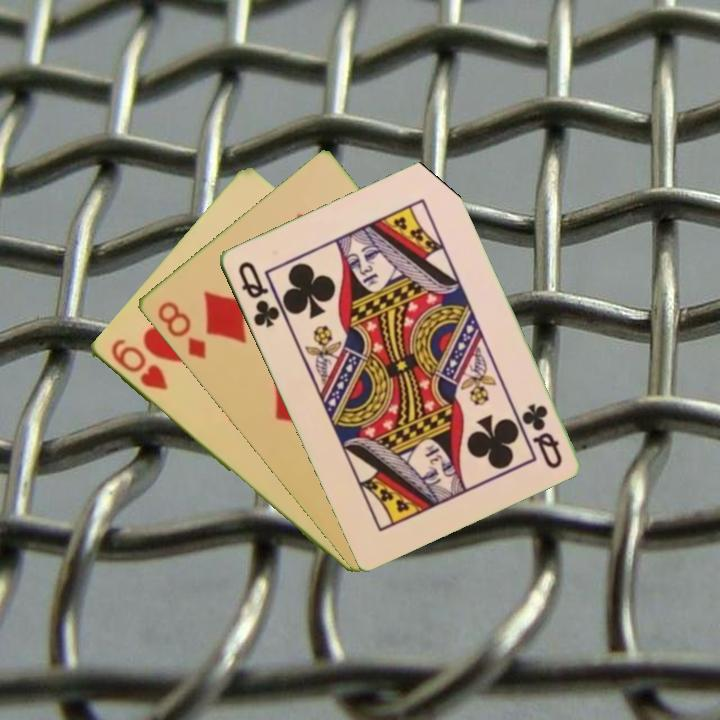6h: (106, 335, 171, 394)
8d: (153, 297, 209, 362)
Qc: (233, 257, 282, 331), (518, 399, 565, 472)
